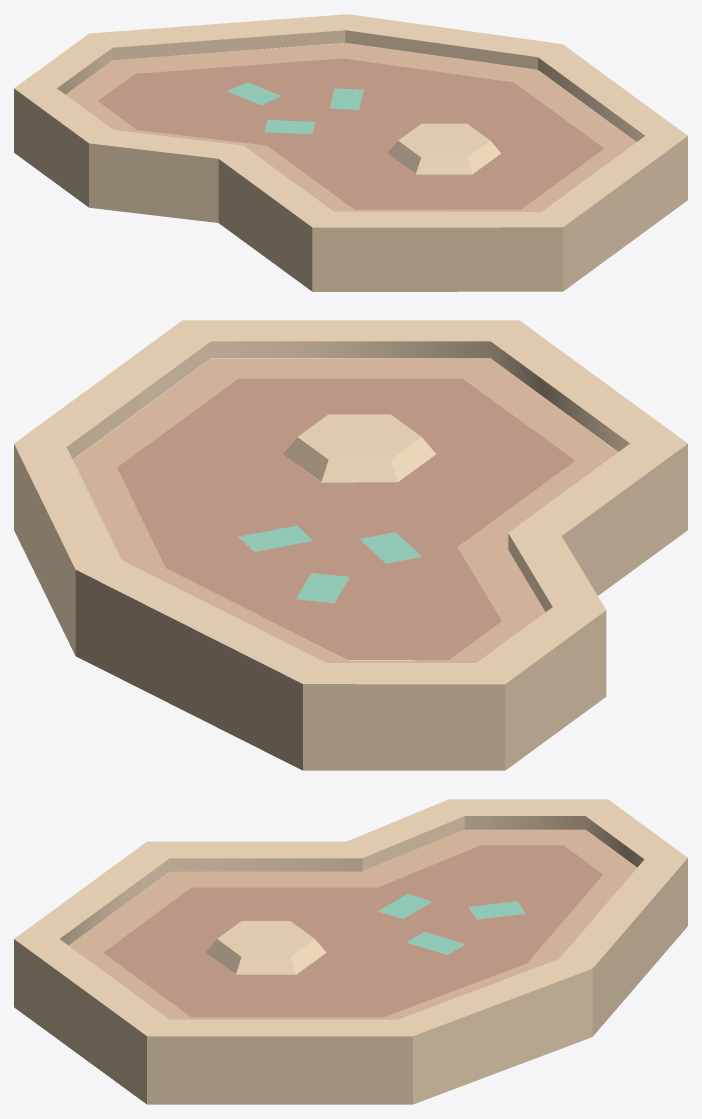
Rendered from meat-cooked.glb.
The picture shows the model from 3 angles, top to bottom: view 1: azimuth 30°, elevation 25°; view 2: azimuth 150°, elevation 25°; view 3: azimuth 270°, elevation 25°; orthographic projection. The views are drawn at different scales.
Visible parts, largest first — view 1: meatCooked; view 2: meatCooked; view 3: meatCooked.
Part boxes in pixels (x1=…): meatCooked: x1=14, y1=14, x2=687, y2=291; meatCooked: x1=14, y1=320, x2=687, y2=770; meatCooked: x1=14, y1=799, x2=687, y2=1104.
Size of the model in its own units: 0.4784 by 0.0644 by 0.5754.
